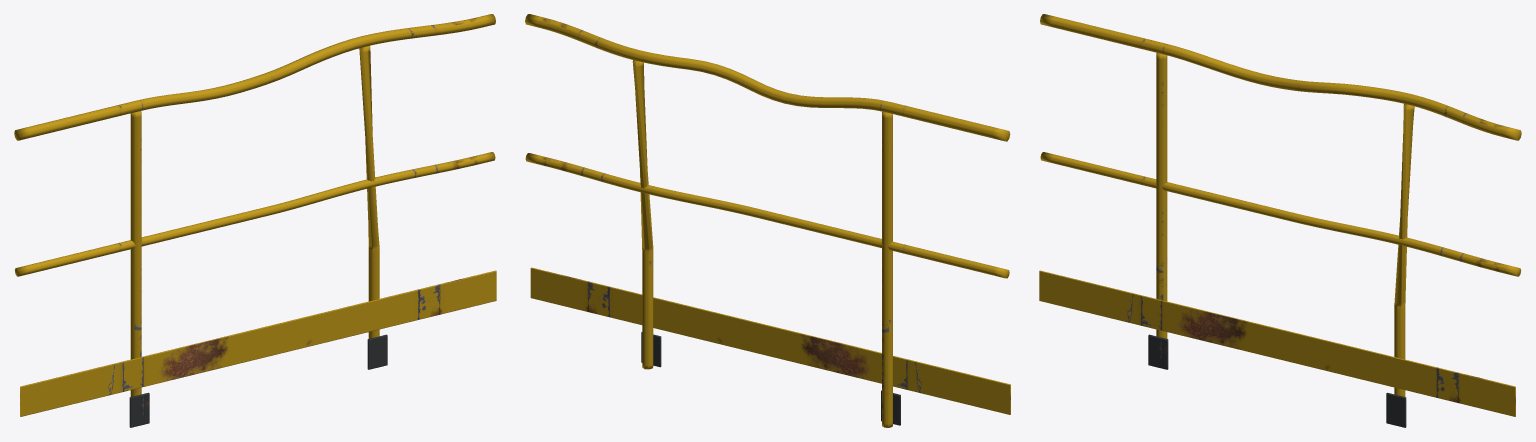
The model's file is SM_IK_Railing_200_Bent_LOD1.fbx.
3 renders of one model, left to right at view 1: azimuth 30°, elevation 25°; view 2: azimuth 150°, elevation 25°; view 3: azimuth 330°, elevation 25°, orthographic.
Visible parts, largest first — view 1: SM_IK_Railing_200_Bent_LOD1; view 2: SM_IK_Railing_200_Bent_LOD1; view 3: SM_IK_Railing_200_Bent_LOD1.
Boxes of the visible parts, <box> form: SM_IK_Railing_200_Bent_LOD1: <box>14,14,496,427</box>; SM_IK_Railing_200_Bent_LOD1: <box>525,14,1010,427</box>; SM_IK_Railing_200_Bent_LOD1: <box>1039,14,1521,427</box>.
Bounding box in the file's own units: 200 × 12 × 129.
